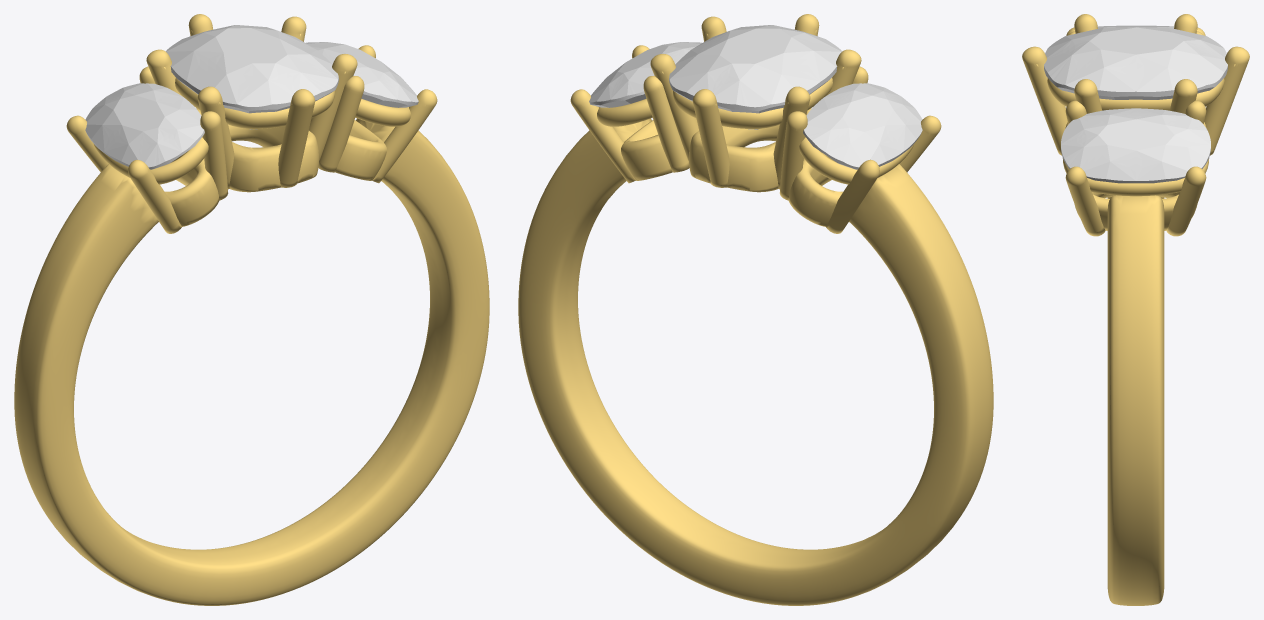
The model's file is diamond-cushion-yellowgold-6prong-straightband-3stone.glb.
The picture shows the model from 3 angles, left to right: view 1: azimuth 30°, elevation 25°; view 2: azimuth 150°, elevation 25°; view 3: azimuth 270°, elevation 25°; orthographic projection.
Parts seen in each view (by area): view 1: metal.001, stone.002, side.004, side.005; view 2: metal.001, stone.002, side.004, side.005; view 3: metal.001, stone.002, side.005.
Part boxes in pixels (x1,y1,x2,y2): metal.001: (14,14,489,605); stone.002: (166,25,338,129); side.004: (85,83,204,169); side.005: (306,42,418,107); metal.001: (518,14,993,605); stone.002: (669,25,841,129); side.004: (803,83,922,169); side.005: (589,42,701,107); metal.001: (1022,14,1249,605); stone.002: (1044,27,1227,99); side.005: (1061,108,1210,183).
Size of the model in its own units: 20.1 by 23.04 by 8.8.
